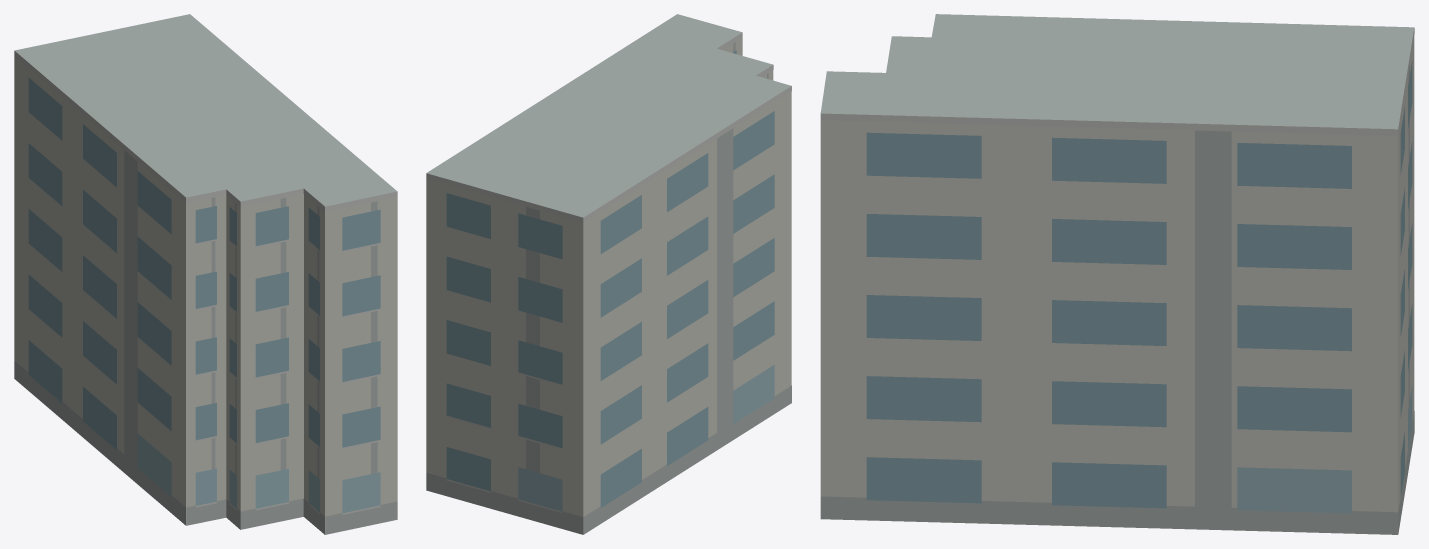
The model's file is survey-upis-32940788.glb.
The picture shows the model from 3 angles, left to right: view 1: azimuth 30°, elevation 25°; view 2: azimuth 150°, elevation 25°; view 3: azimuth 270°, elevation 25°; orthographic projection. The views are drawn at different scales.
Visible parts, largest first — view 1: survey-upis-32940788.tmp; view 2: survey-upis-32940788.tmp; view 3: survey-upis-32940788.tmp.
Boxes of the visible parts, left/top/right/bottom form: survey-upis-32940788.tmp: left=14, top=14, right=397, bottom=534; survey-upis-32940788.tmp: left=426, top=14, right=791, bottom=534; survey-upis-32940788.tmp: left=820, top=14, right=1414, bottom=534.
Size of the model in its own units: 8.84 by 14.5 by 19.25.
